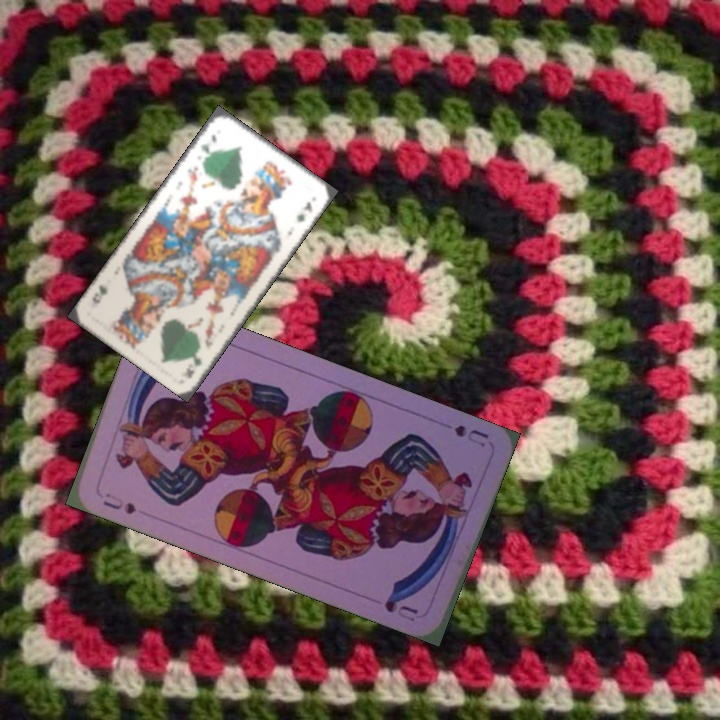GK: (179, 351, 204, 381), (197, 130, 219, 157)
SU: (450, 420, 491, 449), (99, 489, 139, 517)
